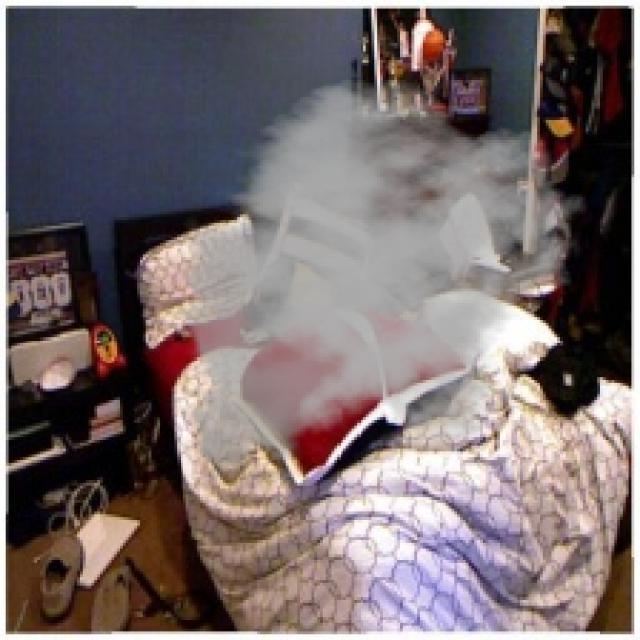Smoke: (168, 77, 588, 489)
